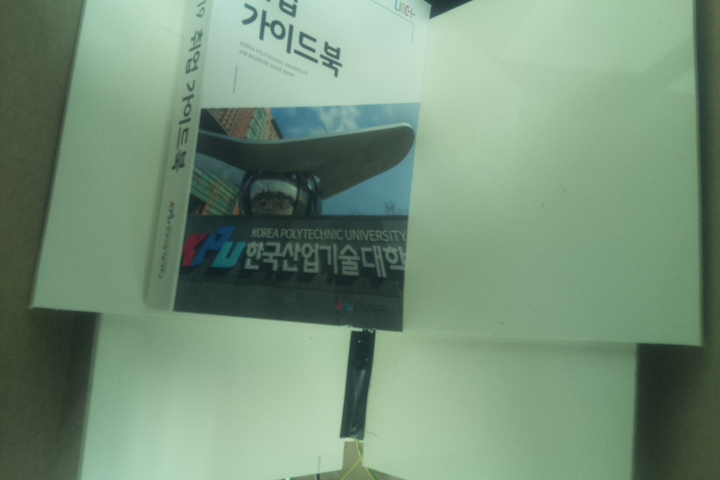book: (139, 1, 435, 337)
